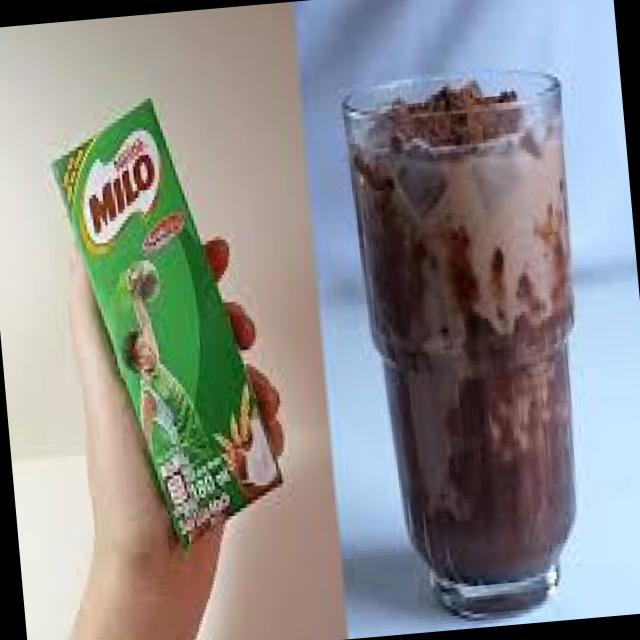sua milo: (42, 80, 304, 566)
